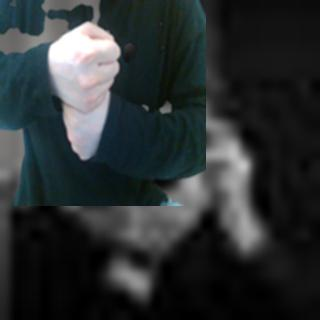CAREFUL: (43, 15, 123, 169)
